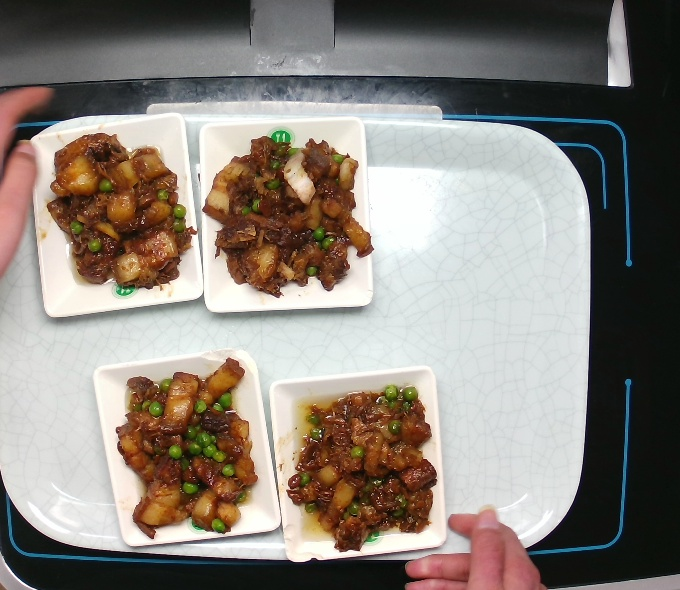wcq-JiangRou: (202, 123, 376, 300), (47, 125, 200, 315), (281, 371, 434, 561), (107, 354, 260, 544)
